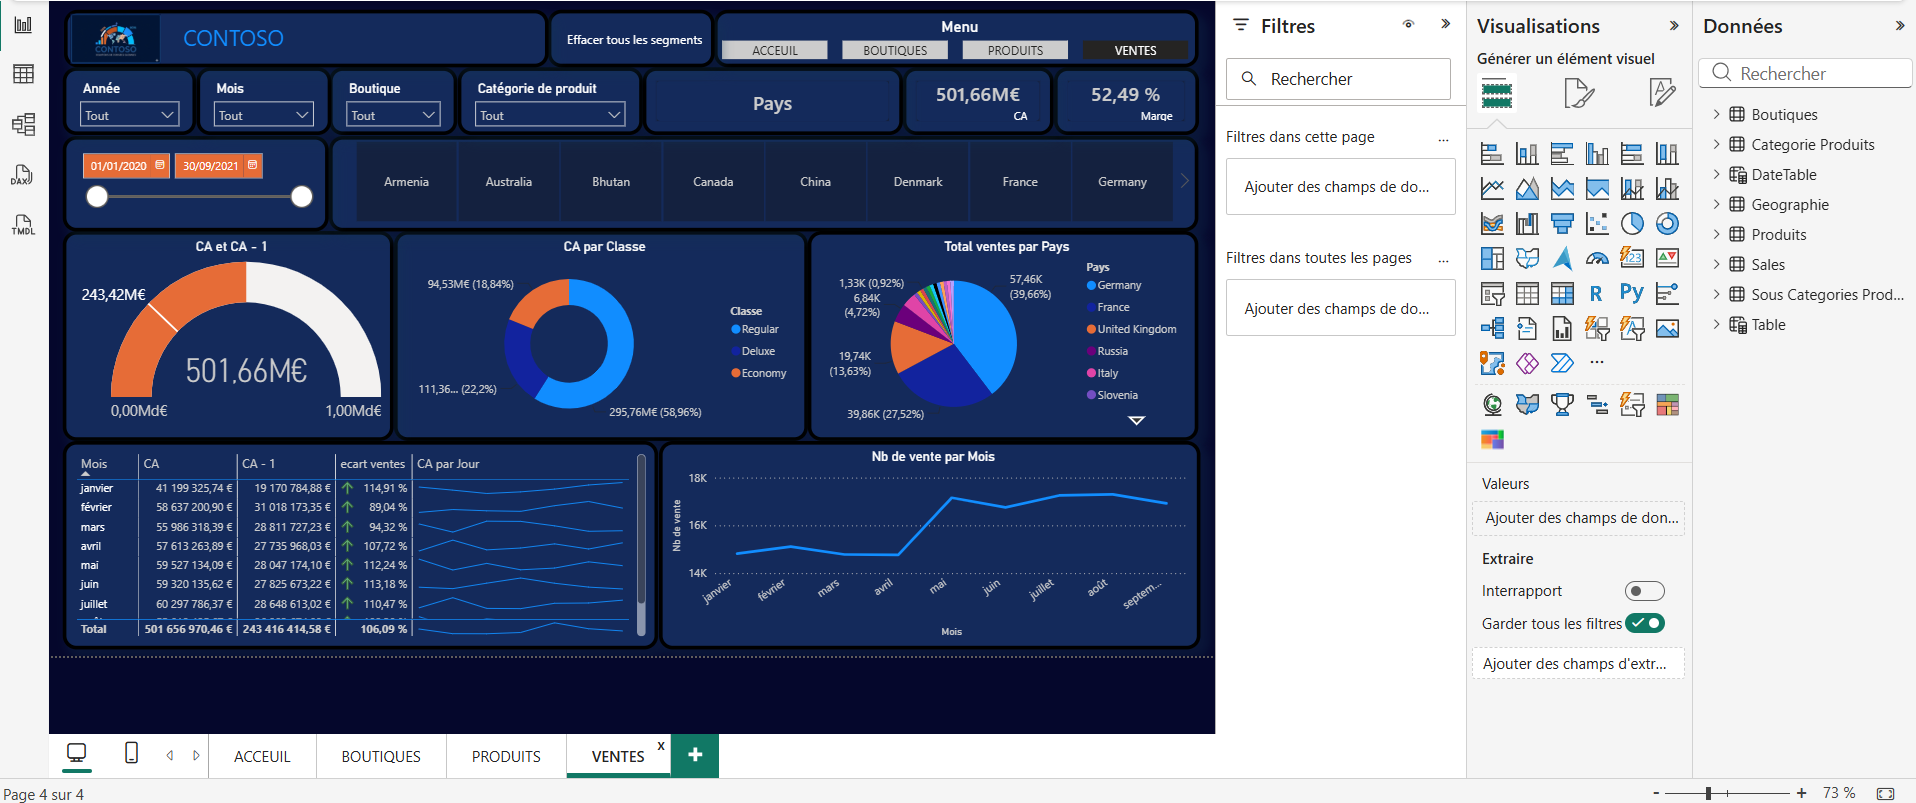

The page's visual inventory and layout, read from the dashboard file:
{"tool":"powerbi","page":{"name":"VENTES","canvas":[1280,720],"ordinal":3},"visuals":[{"type":"donutChart","fields":{"Y":["Table.CA"],"Category":["Produits.Class"]},"box":[378.9,252.2,454.4,230],"z":0},{"type":"gauge","fields":{"Y":["Table.CA"],"TargetValue":["Table.CA - 1"]},"box":[15.6,252.2,363.3,230],"z":1000},{"type":"tableEx","fields":{"Values":["DateTable.Mois","Table.CA","Table.CA - 1","Table.ecart ventes","SparklineData(Table.CA_[DateTable.Jour])"]},"box":[15.6,482.4,653.6,228.6],"z":2000},{"type":"slicer","title":"Pays","fields":{"Values":["Geographie.Pays"]},"box":[307.8,147.8,954.4,104.4],"z":3000},{"type":"slicer","title":"Boutique","fields":{"Values":["Boutiques.Boutique"]},"box":[307.8,73.3,141.1,74.4],"z":4000},{"type":"slicer","title":"Boutique","fields":{"Values":["Categorie Produits.Categorie Produit"]},"box":[448.9,73.3,203.3,74.4],"z":5000},{"type":"cardVisual","fields":{"Data":["Table.Taux de Marge"]},"box":[1103.3,73.3,158.9,74.4],"z":6000},{"type":"cardVisual","fields":{"Data":["Table.CA"]},"box":[937.8,73.3,165.6,74.4],"z":7000},{"type":"pieChart","title":"Total ventes par Pays","fields":{"Y":["Table.Nb de vente"],"Category":["Geographie.Pays"]},"box":[833.3,252.2,428.9,230],"z":8000},{"type":"cardVisual","title":" ","fields":{"Data":["Table.pays selectionné"]},"box":[652.2,73.3,285.6,74.4],"z":9000},{"type":"lineChart","fields":{"Category":["DateTable.Mois"],"Y":["Table.Nb de vente"]},"box":[669.2,482.4,594.3,228.6],"z":10000},{"type":"pageNavigator","title":"Menu","box":[730.5,9.7,532,63.2],"z":11000},{"type":"actionButton","box":[547.6,9.7,182.9,63.2],"z":12000},{"type":"slicer","fields":{"Values":["DateTable.Date"]},"box":[15.6,147.8,292.2,104.4],"z":13000},{"type":"slicer","fields":{"Values":["DateTable.Année"]},"box":[15.6,73.3,146.7,74.4],"z":14000},{"type":"slicer","fields":{"Values":["DateTable.Mois"]},"box":[162.2,73.3,147.8,74.4],"z":15000},{"type":"textbox","box":[16,10,532,63],"z":16000},{"type":"image","box":[23.3,12.2,98.9,57.8],"z":17000}]}

Visuals, with their boxes on the page's 1280x720 design canvas (x1, y1, x2, y2). These are canvas units, not pixel positions in the 1916x803 screenshot, which may show the page scaled, cropped or inside an application window:
donutChart - Table.CA x Produits.Class: (379,252,833,482)
gauge - Table.CA x Table.CA - 1: (16,252,379,482)
tableEx - DateTable.Mois x Table.CA: (16,482,669,711)
"Pays" slicer: (308,148,1262,252)
"Boutique" slicer: (308,73,449,148)
"Boutique" slicer: (449,73,652,148)
cardVisual - Table.Taux de Marge: (1103,73,1262,148)
cardVisual - Table.CA: (938,73,1103,148)
"Total ventes par Pays" pieChart: (833,252,1262,482)
" " cardVisual: (652,73,938,148)
lineChart - DateTable.Mois x Table.Nb de vente: (669,482,1264,711)
"Menu" pageNavigator: (730,10,1262,73)
actionButton: (548,10,730,73)
slicer - DateTable.Date: (16,148,308,252)
slicer - DateTable.Année: (16,73,162,148)
slicer - DateTable.Mois: (162,73,310,148)
textbox: (16,10,548,73)
image: (23,12,122,70)
